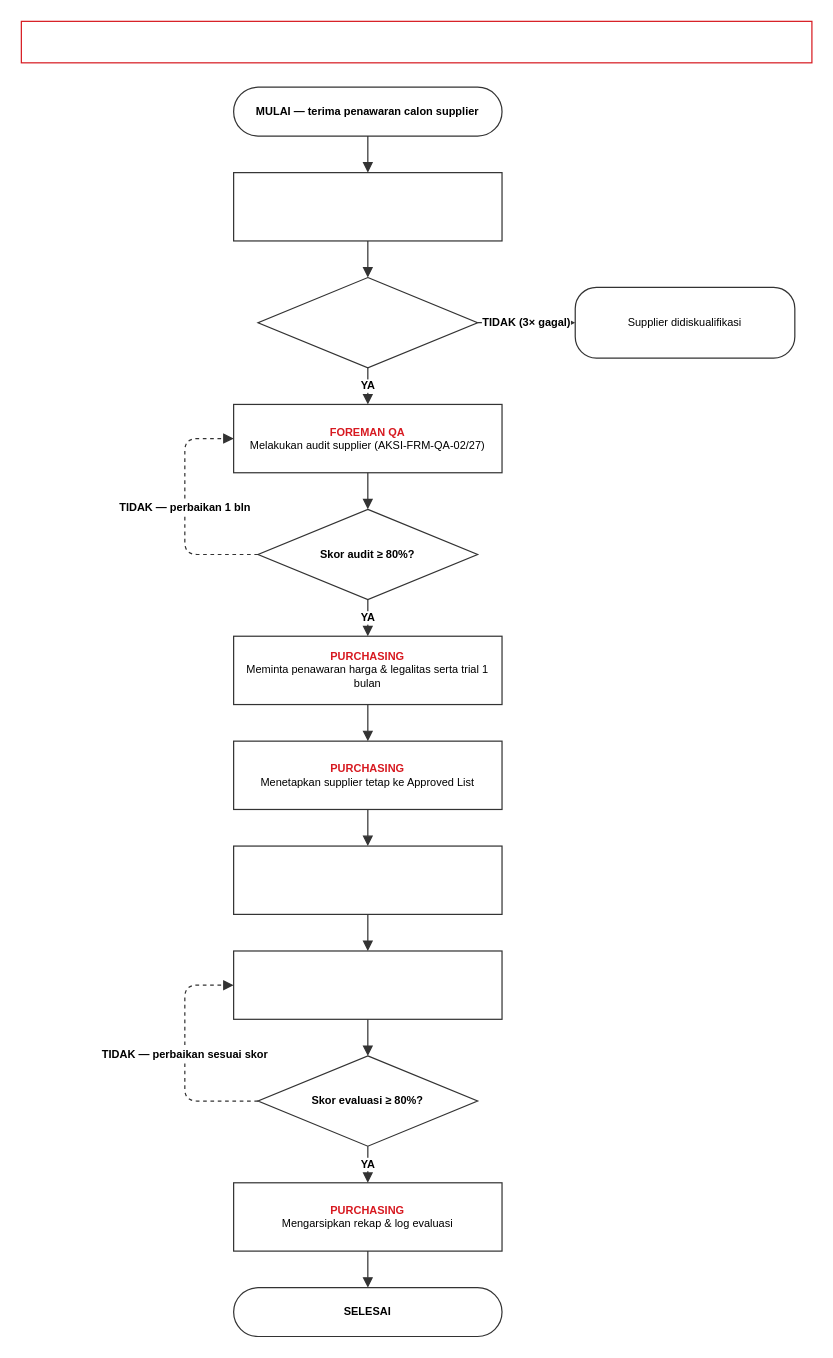
Some shapes in this 833 by 1358 pixel diagram are drawn without their labels. The centre of each missing label's shape, as x and y in pixels:
FLOW SOP-AKSI-PUR-05 PERSETUJUAN DAN EVALUASI SUPPLIER — UTUH: point 416,41
FOREMAN QA Melakukan evaluasi tahunan supplier tetap: point 367,984
FOREMAN QA Melakukan risk assessment & klasifikasi risiko: point 367,879
RnD Mengevaluasi sample, CoA, dan sertifikat halal: point 367,206
Sample memenuhi syarat?: point 367,322
